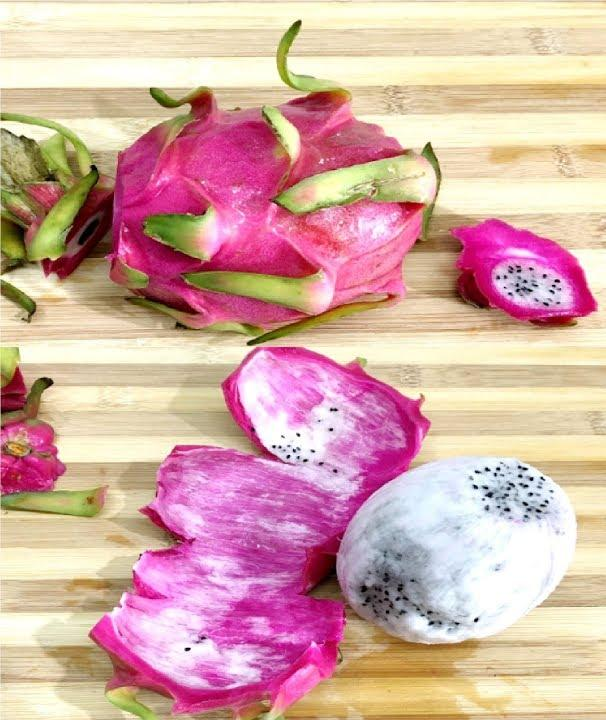organic: (90, 346, 434, 719), (105, 19, 443, 347), (337, 457, 575, 645), (450, 218, 599, 328)
